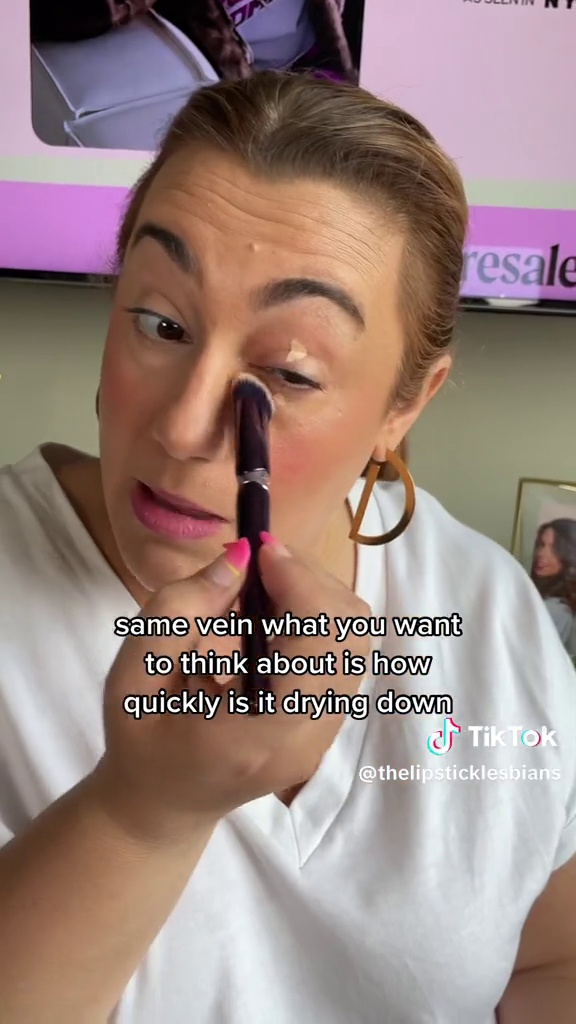train' :'yolo_data/train/images',: (208, 364, 284, 728)
